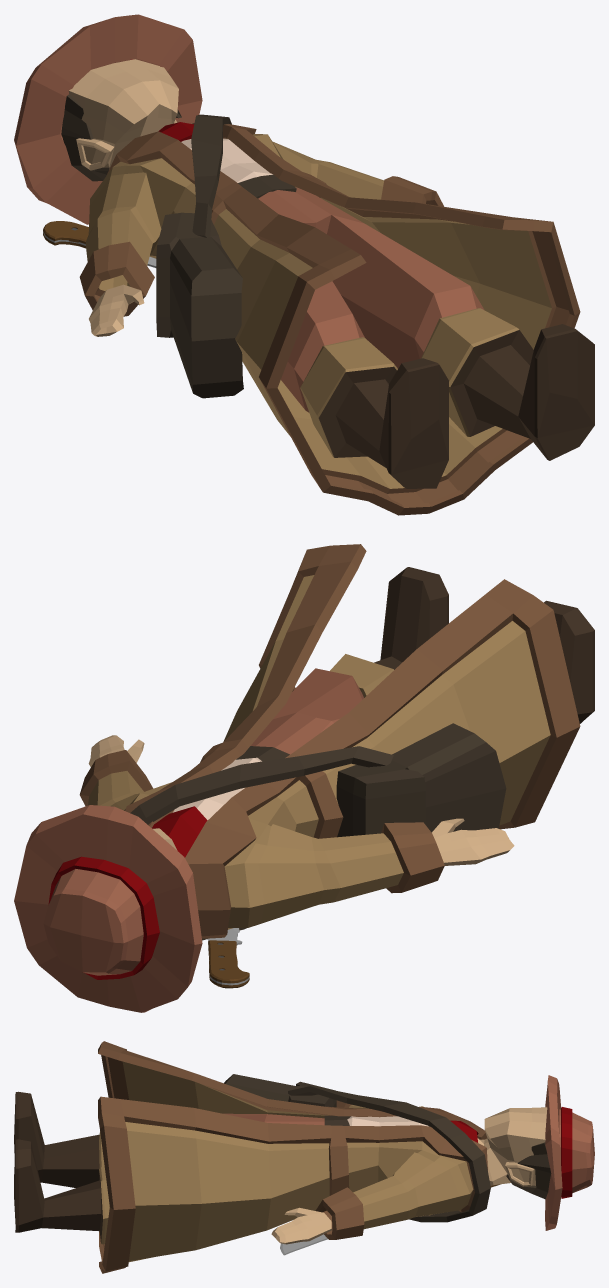
The model's file is characterrotated.fbx.
3 views of the same model, one above another, from view 1: azimuth 30°, elevation 25°; view 2: azimuth 150°, elevation 25°; view 3: azimuth 270°, elevation 25° (orthographic). The views are drawn at different scales.
Parts seen in each view (by area): view 1: FULL.002; view 2: FULL.002; view 3: FULL.002.
Boxes of the visible parts, box(x1,y1,x2,y2) form: FULL.002: box(14, 14, 594, 515); FULL.002: box(14, 544, 594, 1012); FULL.002: box(14, 1041, 594, 1273).
Size of the model in its own units: 124 by 78.8 by 211.
